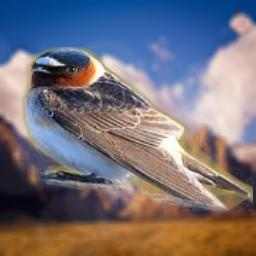Swallow: (22, 47, 253, 213)
